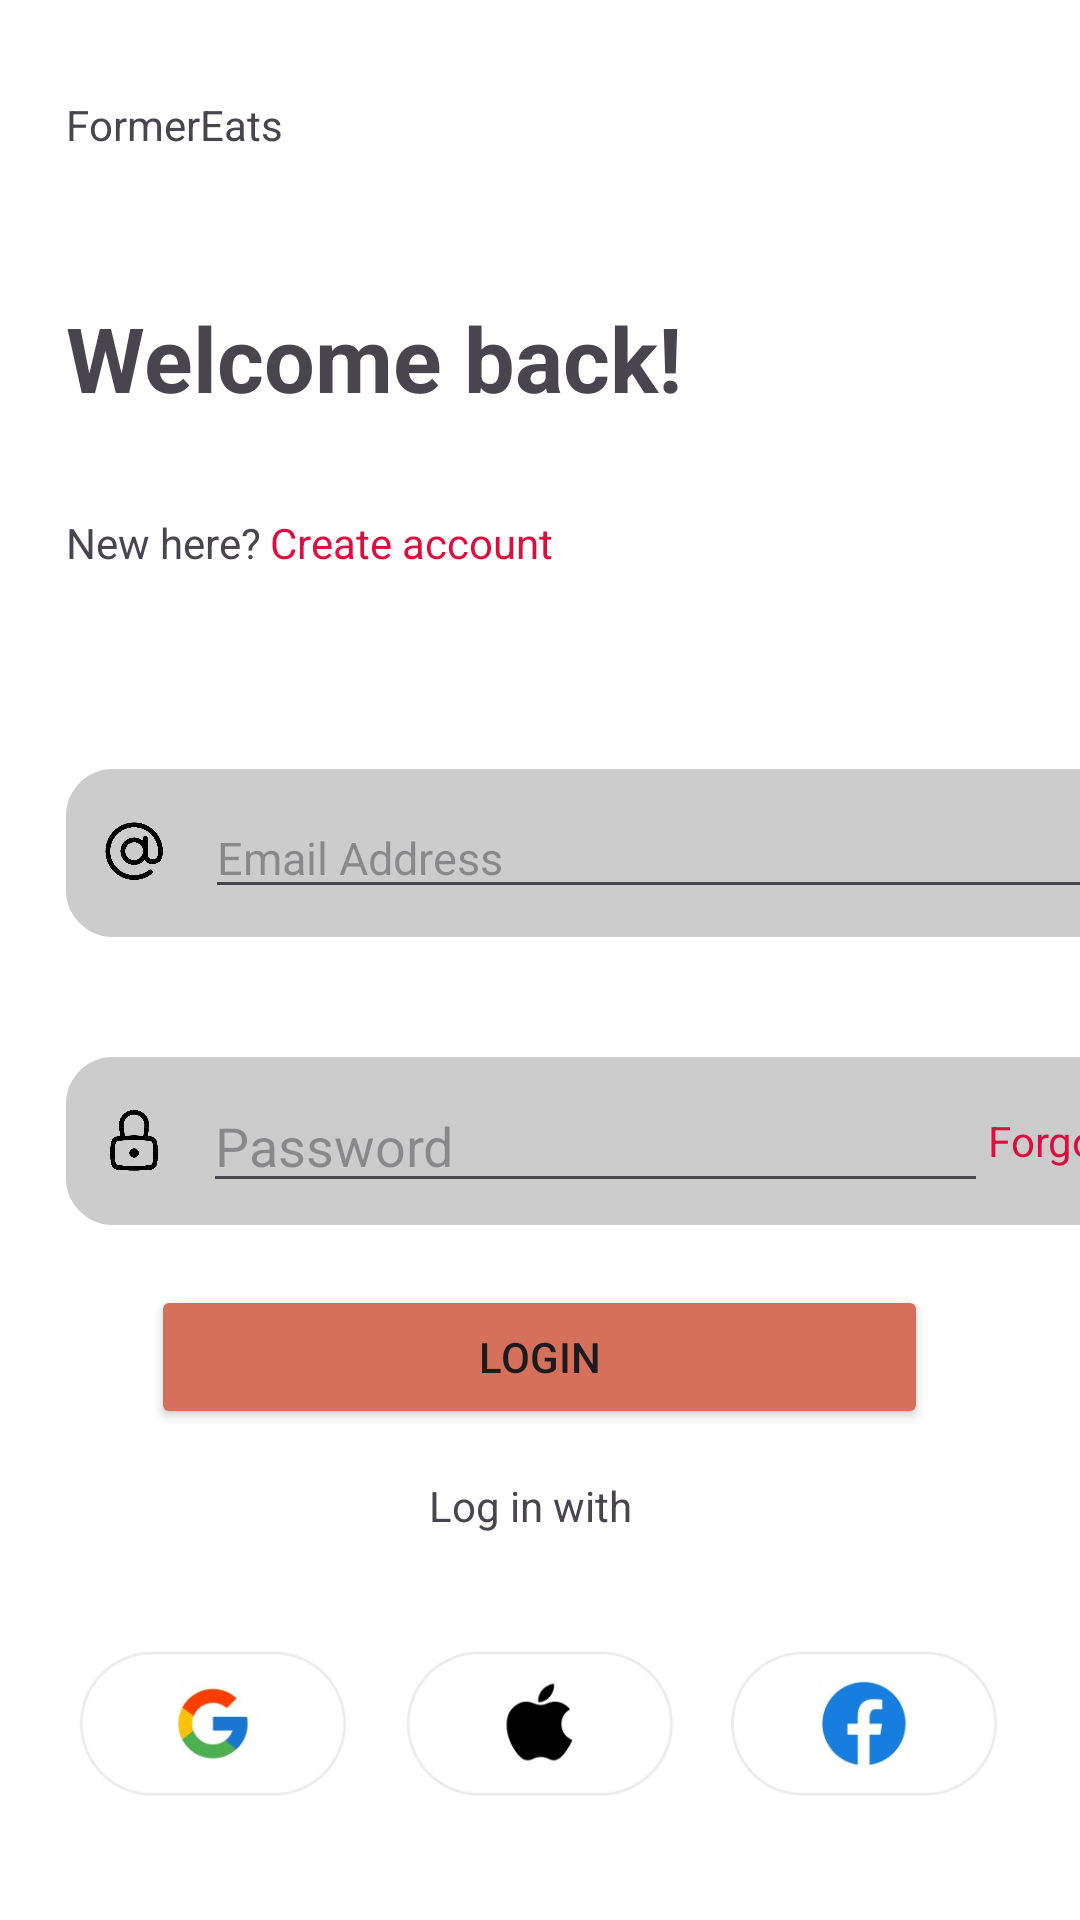

Where to tap for icons on this 1080px×1920px app screen, as (x,y):
attherate without: (134,851)
lock without: (134,1140)
